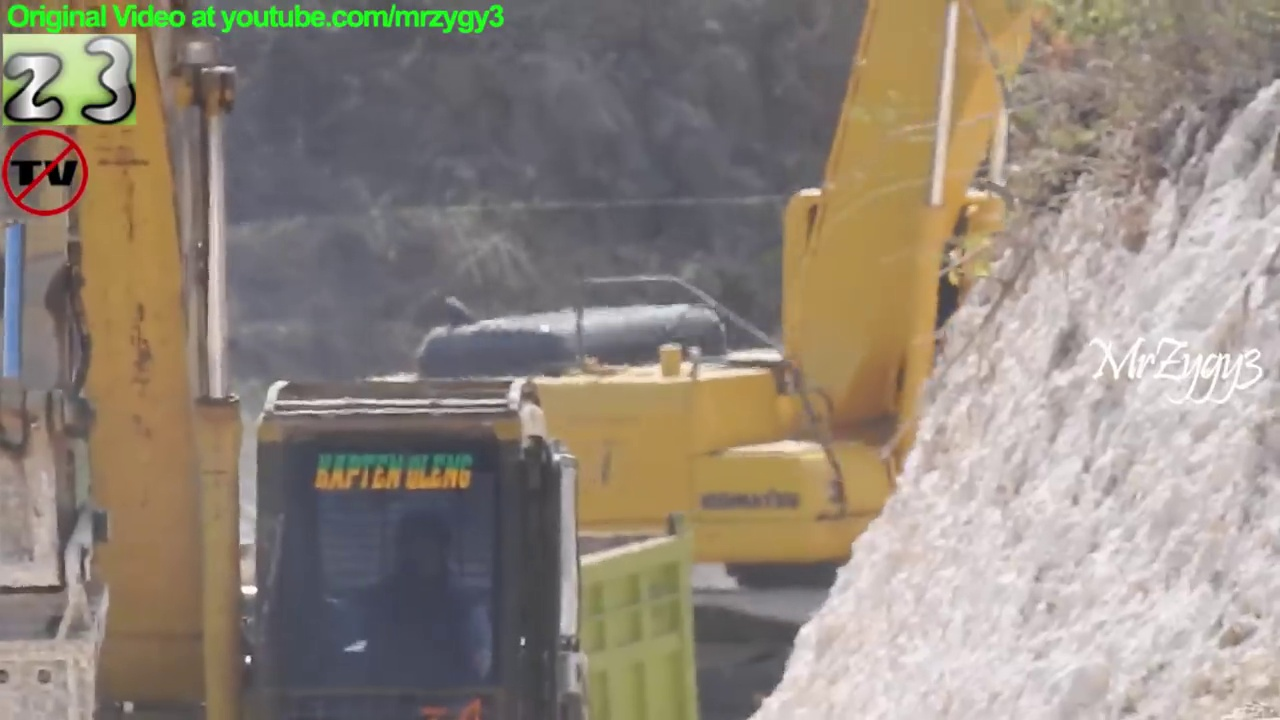excavator: (324, 1, 1082, 720), (1, 1, 613, 720)
truck: (1, 513, 719, 720)
